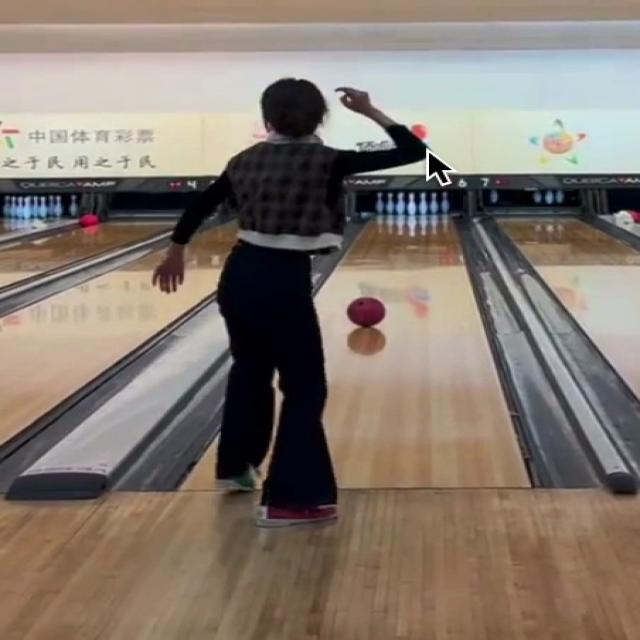alley: (316, 217, 527, 486)
balls: (347, 296, 385, 327)
bottle: (377, 191, 452, 215)
